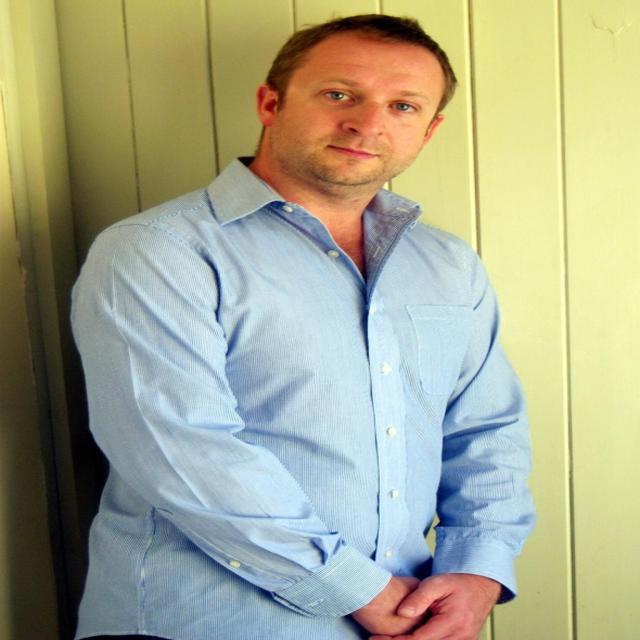Face: (274, 33, 459, 191)
